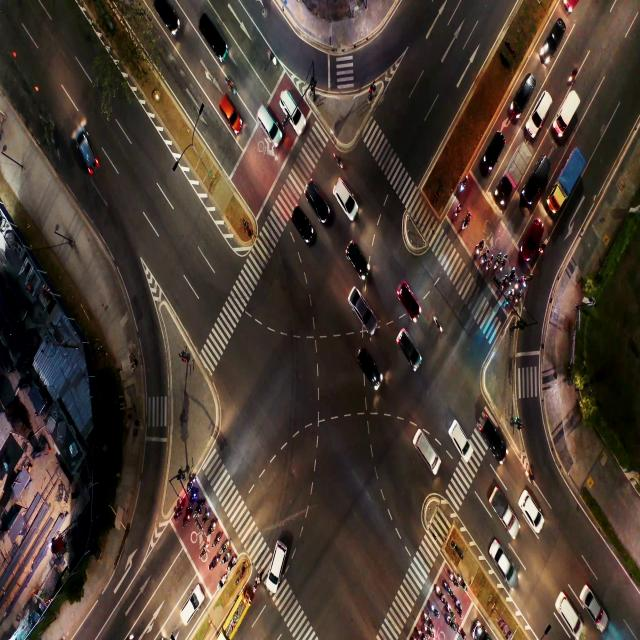bus: (230, 599, 246, 627)
car: (265, 544, 293, 585), (356, 344, 382, 387), (485, 540, 512, 576), (75, 131, 95, 173), (512, 76, 532, 115), (415, 430, 436, 467), (156, 1, 180, 33), (202, 15, 224, 48), (482, 418, 502, 452), (222, 100, 240, 132), (397, 326, 414, 359), (558, 599, 578, 626), (349, 288, 366, 319), (545, 21, 562, 51), (310, 178, 324, 214), (280, 92, 299, 118), (488, 132, 503, 164), (180, 593, 199, 617), (336, 181, 354, 206), (525, 496, 540, 526), (401, 282, 415, 314), (453, 424, 466, 457), (586, 590, 601, 617), (260, 107, 276, 131), (532, 97, 549, 119), (295, 211, 309, 236), (534, 156, 546, 180), (526, 228, 538, 252), (353, 244, 362, 264)
motorcycle: (432, 313, 442, 332), (266, 50, 277, 66), (332, 151, 342, 167), (476, 240, 484, 257), (455, 599, 463, 616), (526, 471, 536, 484), (226, 77, 235, 91), (500, 275, 509, 286), (450, 572, 457, 586), (459, 575, 466, 588), (202, 511, 208, 526), (208, 519, 214, 534), (446, 617, 454, 628), (195, 504, 201, 518), (214, 532, 220, 546), (219, 574, 225, 588), (446, 583, 452, 596), (437, 587, 443, 600), (229, 556, 234, 571), (220, 543, 228, 552), (541, 240, 547, 252), (524, 274, 530, 286), (447, 602, 453, 614), (424, 613, 432, 622), (254, 577, 259, 591), (464, 214, 469, 228), (515, 278, 522, 288), (201, 544, 207, 555), (501, 257, 507, 268), (431, 605, 437, 616), (415, 625, 421, 636), (212, 556, 217, 569), (175, 507, 181, 517), (516, 292, 522, 302), (426, 626, 432, 636), (455, 204, 460, 215), (461, 178, 466, 188), (509, 269, 514, 279), (461, 627, 466, 637), (190, 493, 196, 501), (188, 478, 193, 487), (488, 257, 493, 266), (222, 554, 226, 565), (186, 512, 189, 524), (483, 251, 487, 260), (496, 256, 500, 264), (508, 292, 512, 300)
truck: (494, 489, 514, 526), (558, 160, 578, 193), (561, 87, 577, 128), (507, 158, 520, 188)
